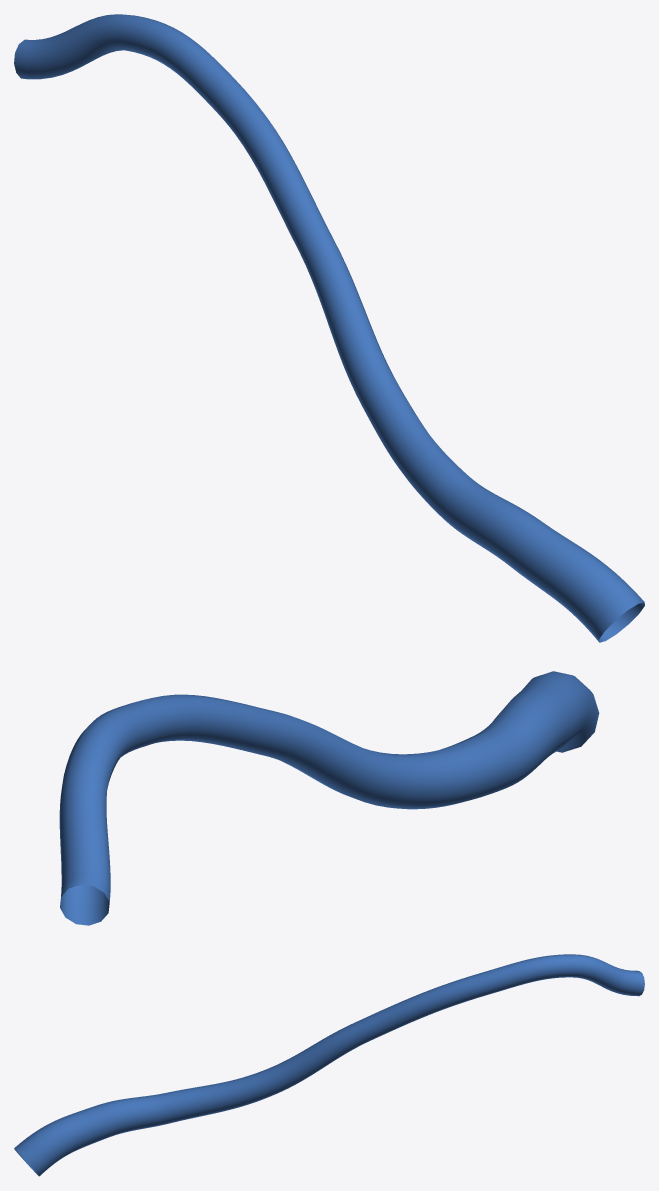
3 renders of one model, top to bottom at view 1: azimuth 30°, elevation 25°; view 2: azimuth 150°, elevation 25°; view 3: azimuth 270°, elevation 25°, orthographic. The views are drawn at different scales.
Visible parts, largest first — view 1: 右侧腘静脉; view 2: 右侧腘静脉; view 3: 右侧腘静脉.
Boxes of the visible parts, x1,y1,x2,y2 form: 右侧腘静脉: (14, 14, 644, 642); 右侧腘静脉: (59, 671, 599, 925); 右侧腘静脉: (14, 954, 644, 1176).
Bounding box in the file's own units: 0.0414 × 0.0868 × 0.2419.
